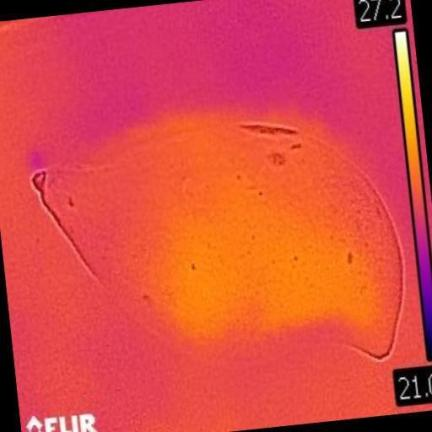mango: (38, 118, 401, 354)
